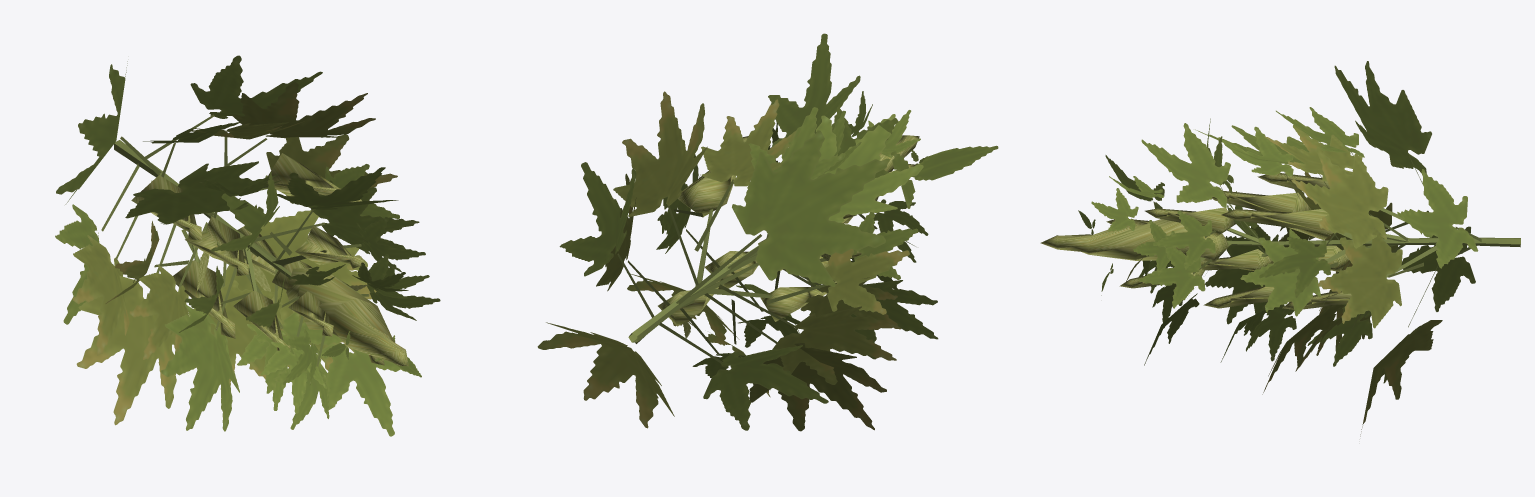
Rendered from p_hybrid_ripe_c1_cards.obj.
3 views of the same model, side by side, from view 1: azimuth 30°, elevation 25°; view 2: azimuth 150°, elevation 25°; view 3: azimuth 270°, elevation 25° (orthographic). The views are drawn at different scales.
Bounding box in the file's own units: 1.29 × 1.25 × 1.48.
1 material, 1 textured.
